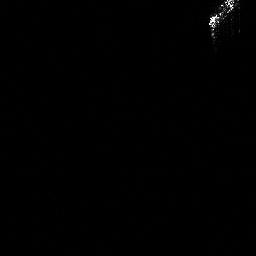ship: (204, 1, 241, 42)
